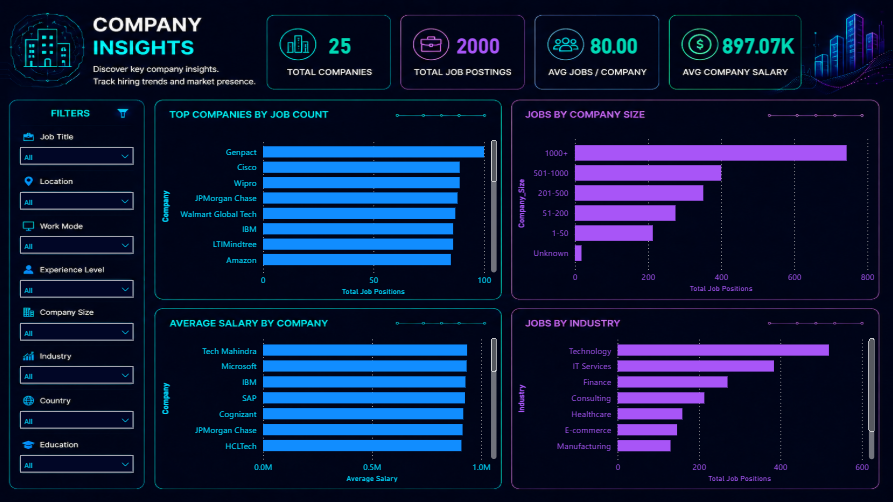

This screenshot's page, from the dashboard's own definition file:
{"tool":"powerbi","page":{"name":"Company Insights","canvas":[1280,720],"ordinal":3},"visuals":[{"type":"card","fields":{"Values":["ai_job_market job_market.Total Companies"]},"box":[427.1,32.9,120,62.9],"z":0},{"type":"card","fields":{"Values":["ai_job_market job_market.Total Job Positions"]},"box":[624.3,32.9,120,62.9],"z":1000},{"type":"card","fields":{"Values":["ai_job_market job_market.Avg Jobs per Company"]},"box":[818.6,32.9,120,62.9],"z":2000},{"type":"card","fields":{"Values":["ai_job_market job_market.Average Salary"]},"box":[1024.3,32.9,120,62.9],"z":3000},{"type":"clusteredBarChart","fields":{"Category":["ai_job_market job_market.Company"],"Y":["ai_job_market job_market.Total Job Positions"]},"box":[227.5,187.5,488.8,240],"z":4000},{"type":"slicer","fields":{"Values":["ai_job_market job_market.Job_Title"]},"box":[19.6,200.4,181.7,38.7],"z":5000},{"type":"slicer","fields":{"Values":["ai_job_market job_market.Location"]},"box":[19.6,264.3,181.7,38.7],"z":6000},{"type":"slicer","fields":{"Values":["ai_job_market job_market.Work_Mode"]},"box":[19.5,327.6,181.9,38.1],"z":7000},{"type":"slicer","fields":{"Values":["ai_job_market job_market.Experience_Level"]},"box":[19.5,389.5,181.9,38.1],"z":8000},{"type":"slicer","fields":{"Values":["ai_job_market job_market.Company_Size"]},"box":[19.3,450.7,181.9,38.1],"z":9000},{"type":"slicer","fields":{"Values":["ai_job_market job_market.Industry"]},"box":[19.6,513.6,181.9,38.1],"z":10000},{"type":"slicer","fields":{"Values":["ai_job_market job_market.Country"]},"box":[19.3,577.5,181.9,38.1],"z":11000},{"type":"slicer","fields":{"Values":["ai_job_market job_market.Education"]},"box":[19.6,640.4,181.9,38.1],"z":12000},{"type":"clusteredBarChart","fields":{"Category":["ai_job_market job_market.Company_Size"],"Y":["ai_job_market job_market.Total Job Positions"]},"box":[735,182.5,520,240],"z":13000},{"type":"clusteredBarChart","fields":{"Y":["ai_job_market job_market.Average Salary"],"Category":["ai_job_market job_market.Company"]},"box":[227.5,470,488.8,223.8],"z":14000},{"type":"clusteredBarChart","fields":{"Category":["ai_job_market job_market.Industry"],"Y":["ai_job_market job_market.Total Job Positions"]},"box":[735,470,520,224],"z":15000}]}

Visuals, with their boxes in screenshot pixels (x1, y1, x2, y2), scaled from the page's 1280x720 canvas onto the 893x502 screenshot:
card - ai_job_market job_market.Total Companies: (298,23,382,67)
card - ai_job_market job_market.Total Job Positions: (436,23,519,67)
card - ai_job_market job_market.Avg Jobs per Company: (571,23,655,67)
card - ai_job_market job_market.Average Salary: (715,23,798,67)
clusteredBarChart - ai_job_market job_market.Company x ai_job_market job_market.Total Job Positions: (159,131,500,298)
slicer - ai_job_market job_market.Job_Title: (14,140,140,167)
slicer - ai_job_market job_market.Location: (14,184,140,211)
slicer - ai_job_market job_market.Work_Mode: (14,228,141,255)
slicer - ai_job_market job_market.Experience_Level: (14,272,141,298)
slicer - ai_job_market job_market.Company_Size: (13,314,140,341)
slicer - ai_job_market job_market.Industry: (14,358,141,385)
slicer - ai_job_market job_market.Country: (13,403,140,429)
slicer - ai_job_market job_market.Education: (14,447,141,473)
clusteredBarChart - ai_job_market job_market.Company_Size x ai_job_market job_market.Total Job Positions: (513,127,876,295)
clusteredBarChart - ai_job_market job_market.Average Salary x ai_job_market job_market.Company: (159,328,500,484)
clusteredBarChart - ai_job_market job_market.Industry x ai_job_market job_market.Total Job Positions: (513,328,876,484)
